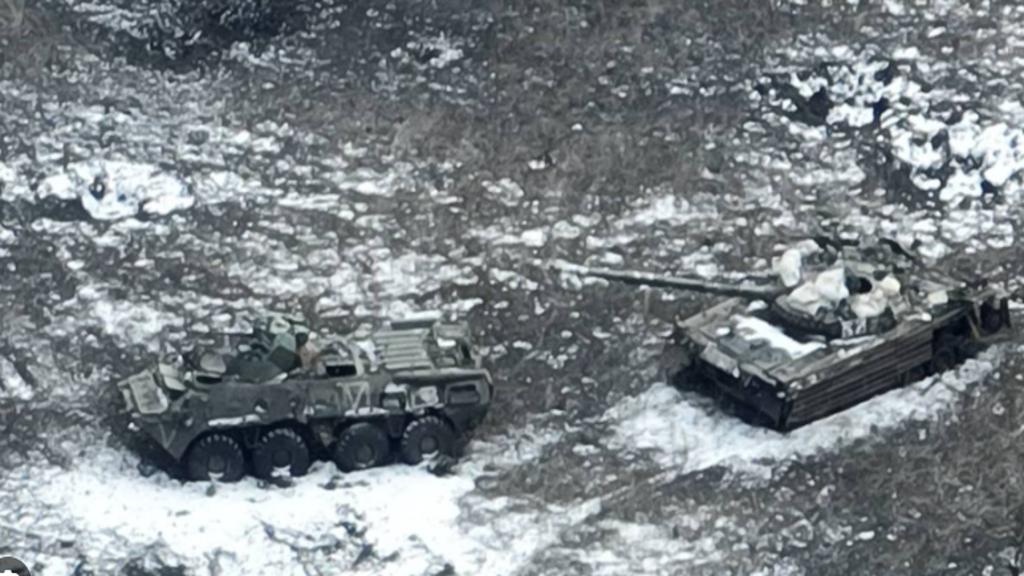APC-IFV: (117, 315, 495, 474)
TANK: (574, 236, 1009, 429)
